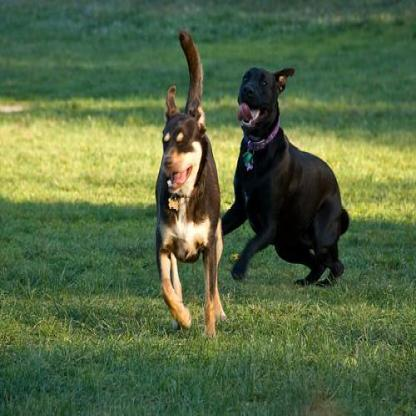kelpie: (218, 62, 349, 288), (153, 26, 226, 340)
